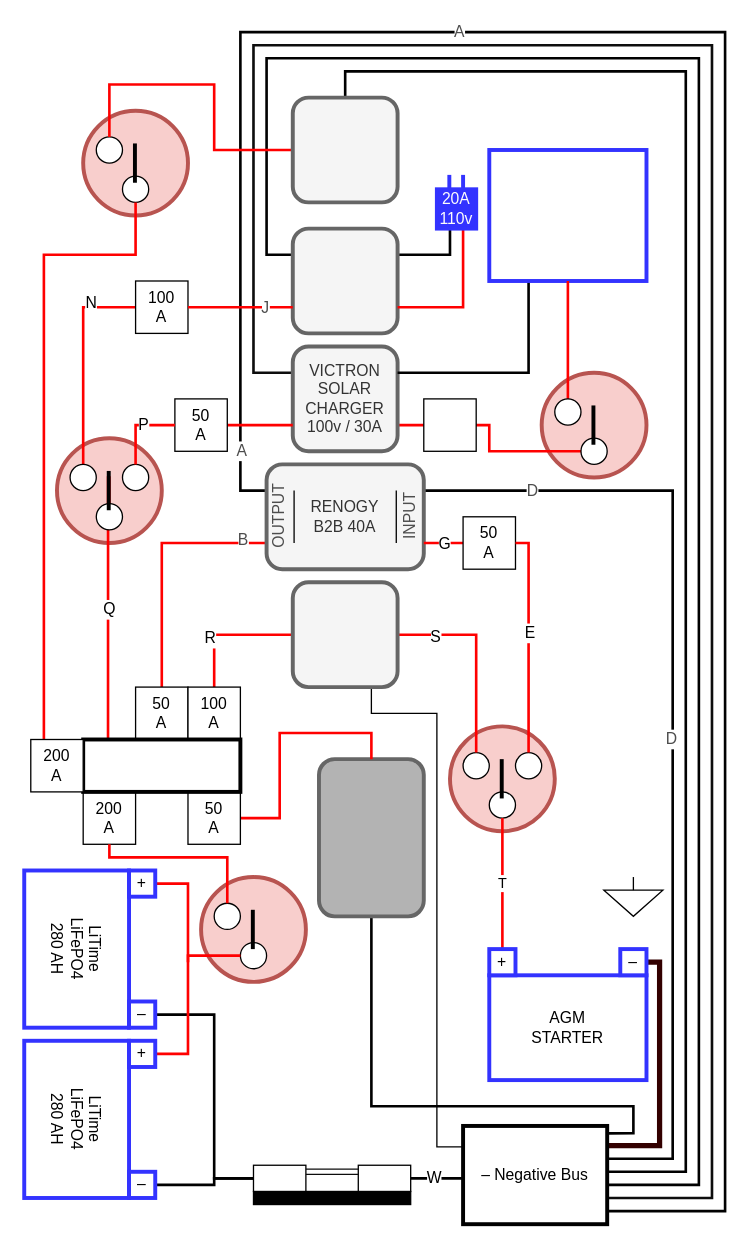
Image size: 751x1248. Some labels were removed from this diagram. The shapes that lost their labels are listed below. From the top down, each one's centre as x and y in pixels, then its label:
(344,149): Renogy 2000w Invertor
(567,214): 160W PV (2x) 320W PV Total (48v max)
(344,280): LiTime SHORE CHARGER 80A
(449,424): 40 A
(344,634): ACR
(161,765): + Positive Bus
(370,837): 12V Loads FAN FRIDGE OUTLETS HEATER
(633,896): GND
